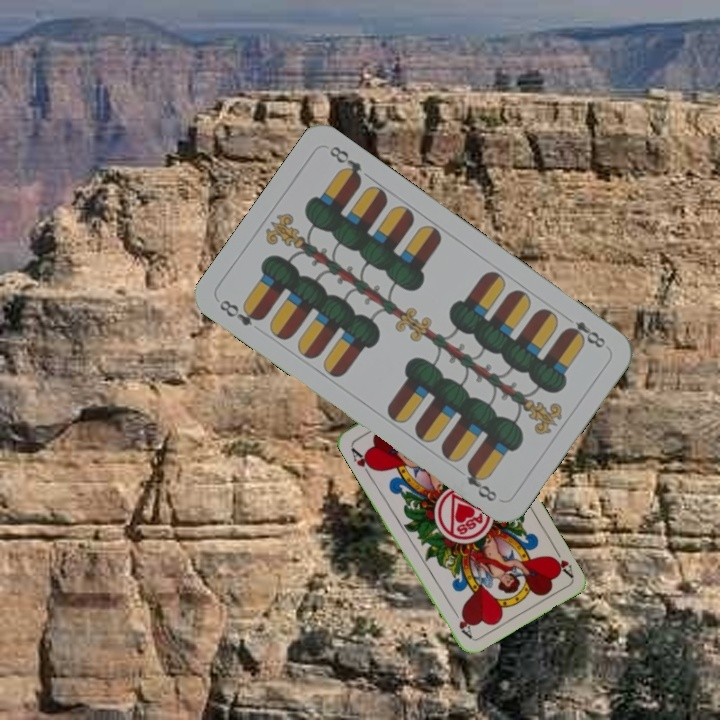E8: (215, 295, 266, 329), (561, 317, 608, 351)
HA: (546, 542, 576, 580), (347, 443, 377, 479)
